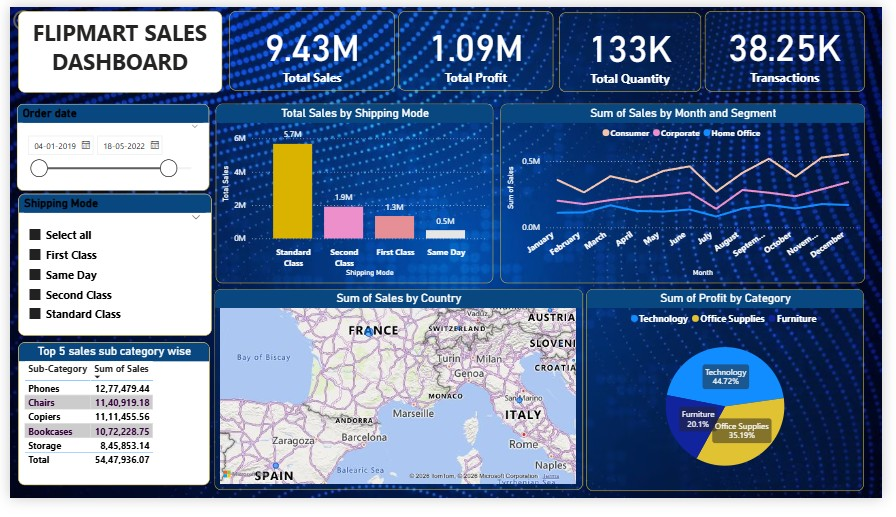

This screenshot's page, from the dashboard's own definition file:
{"tool":"powerbi","page":{"name":"Page 1","canvas":[1280,720],"ordinal":0},"visuals":[{"type":"card","fields":{"Values":["Sum(Sales (2).Sales)"]},"box":[322.5,5.5,242.9,116.6],"z":0},{"type":"card","fields":{"Values":["Sum(Sales (2).Profit)"]},"box":[570.8,6.9,227.8,116.6],"z":1000},{"type":"card","fields":{"Values":["CountNonNull(Sales (2).Order ID)"]},"box":[1019.6,5.5,234.6,118],"z":2000},{"type":"card","fields":{"Values":["Sum(Sales (2).Quantity)"]},"box":[805.5,8.2,208.6,116.6],"z":3000},{"type":"actionButton","box":[0,0,100,40],"z":4000},{"type":"clusteredColumnChart","title":"Total Sales by Shipping Mode","fields":{"Category":["Sales (2).Shipping Mode"],"Y":["Sum(Sales (2).Sales)"]},"box":[301.9,141.3,407.5,263.5],"z":5000},{"type":"pieChart","fields":{"Category":["Sales (2).Category"],"Y":["Sum(Sales (2).Profit)"]},"box":[846.7,414.4,407.5,296.4],"z":6000},{"type":"lineChart","fields":{"Y":["Sum(Sales (2).Sales)"],"Category":["Sales (2).Order Date.Variation.Date Hierarchy.Month"],"Series":["Sales (2).Segment"]},"box":[719,141.3,535.2,263.5],"z":7000},{"type":"map","fields":{"Category":["Sales (2).Country"],"Size":["Sum(Sales (2).Sales)"]},"box":[300.5,414.4,540.7,295],"z":8000},{"type":"tableEx","title":"Top 5 sales sub category wise","fields":{"Values":["Sales (2).Sub-Category","Sum(Sales (2).Sales)"]},"box":[12.3,491.3,281.3,209.9],"z":9000},{"type":"slicer","title":"Shipping Mode","fields":{"Values":["Sales (2).Shipping Mode"]},"box":[12.3,273.1,284,208.6],"z":10000},{"type":"slicer","title":"Order date","fields":{"Values":["Sales (2).Order Date"]},"box":[11,141.3,282.7,127.6],"z":11000},{"type":"textbox","box":[12.3,5.5,299.1,119.4],"z":12000}]}

Visuals, with their boxes in screenshot pixels (x1, y1, x2, y2), scaled from the page's 1280x720 canvas onto the 896x517 screenshot:
card - Sum(Sales (2).Sales): 226:4:396:88
card - Sum(Sales (2).Profit): 400:5:559:89
card - CountNonNull(Sales (2).Order ID): 714:4:878:89
card - Sum(Sales (2).Quantity): 564:6:710:90
actionButton: 0:0:70:29
"Total Sales by Shipping Mode" clusteredColumnChart: 211:101:497:291
pieChart - Sales (2).Category x Sum(Sales (2).Profit): 593:298:878:510
lineChart - Sum(Sales (2).Sales) x Sales (2).Order Date.Variation.Date Hierarchy.Month: 503:101:878:291
map - Sales (2).Country x Sum(Sales (2).Sales): 210:298:589:509
"Top 5 sales sub category wise" tableEx: 9:353:206:504
"Shipping Mode" slicer: 9:196:207:346
"Order date" slicer: 8:101:206:193
textbox: 9:4:218:90
